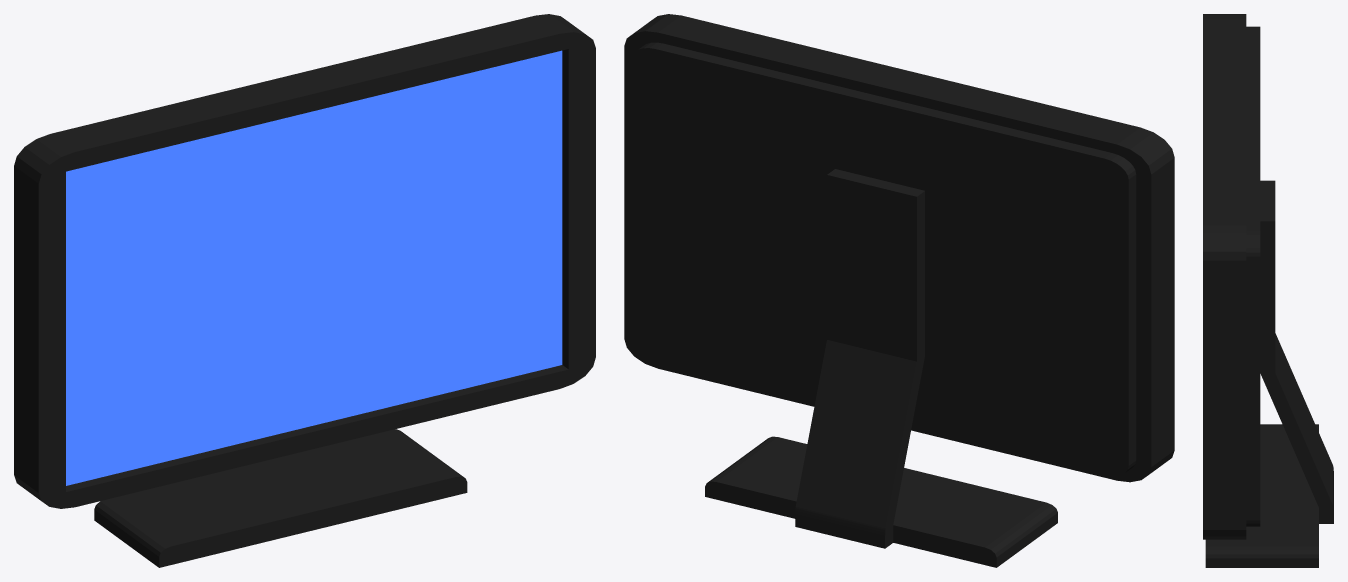
Rendered from ComputerWin.fbx.
The picture shows the model from 3 angles, left to right: view 1: azimuth 30°, elevation 25°; view 2: azimuth 150°, elevation 25°; view 3: azimuth 270°, elevation 25°; orthographic projection. The views are drawn at different scales.
Parts seen in each view (by area): view 1: COMPUTER01; view 2: COMPUTER01; view 3: COMPUTER01.
Boxes of the visible parts, x1,y1,x2,y2 form: COMPUTER01: (14,14,595,567); COMPUTER01: (624,14,1174,567); COMPUTER01: (1203,14,1333,567).
Size of the model in its own units: 67.86 by 50.97 by 15.84.
